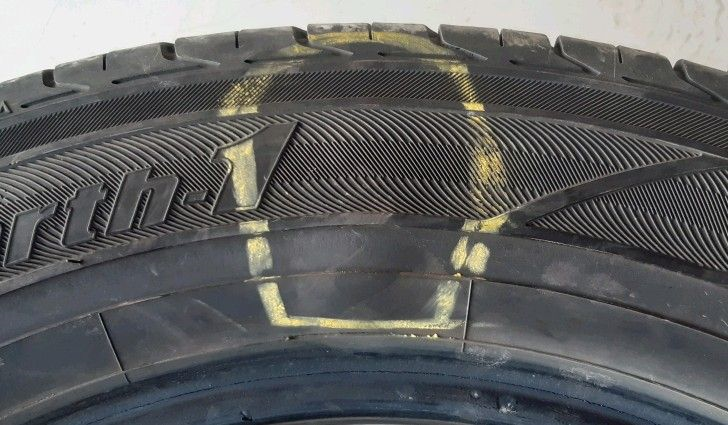CBU: (287, 87, 442, 302)
